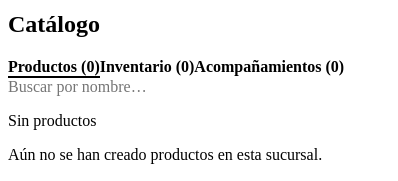
Scenario: CatalogPage › renders tabs with live counts and an empty state per section
Check: the button "Productos (0)" is shown, box [8, 58, 100, 78]
Check: the text "Sin productos" is shown, box [8, 112, 96, 129]
Click the button "Inventario (0)" at x=147, y=68, box [100, 58, 194, 78]
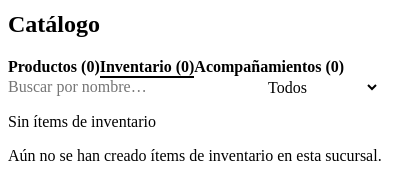
Check: the text "Sin ítems de inventario" is shown, box [8, 113, 156, 130]
Click the button "Acompañamientos (0)" at x=269, y=68, box [194, 58, 344, 78]
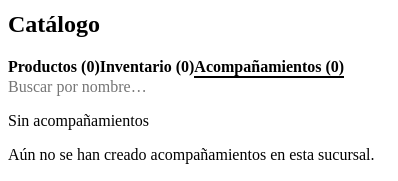
Check: the text "Sin acompañamientos" is shown, box [8, 112, 149, 129]
